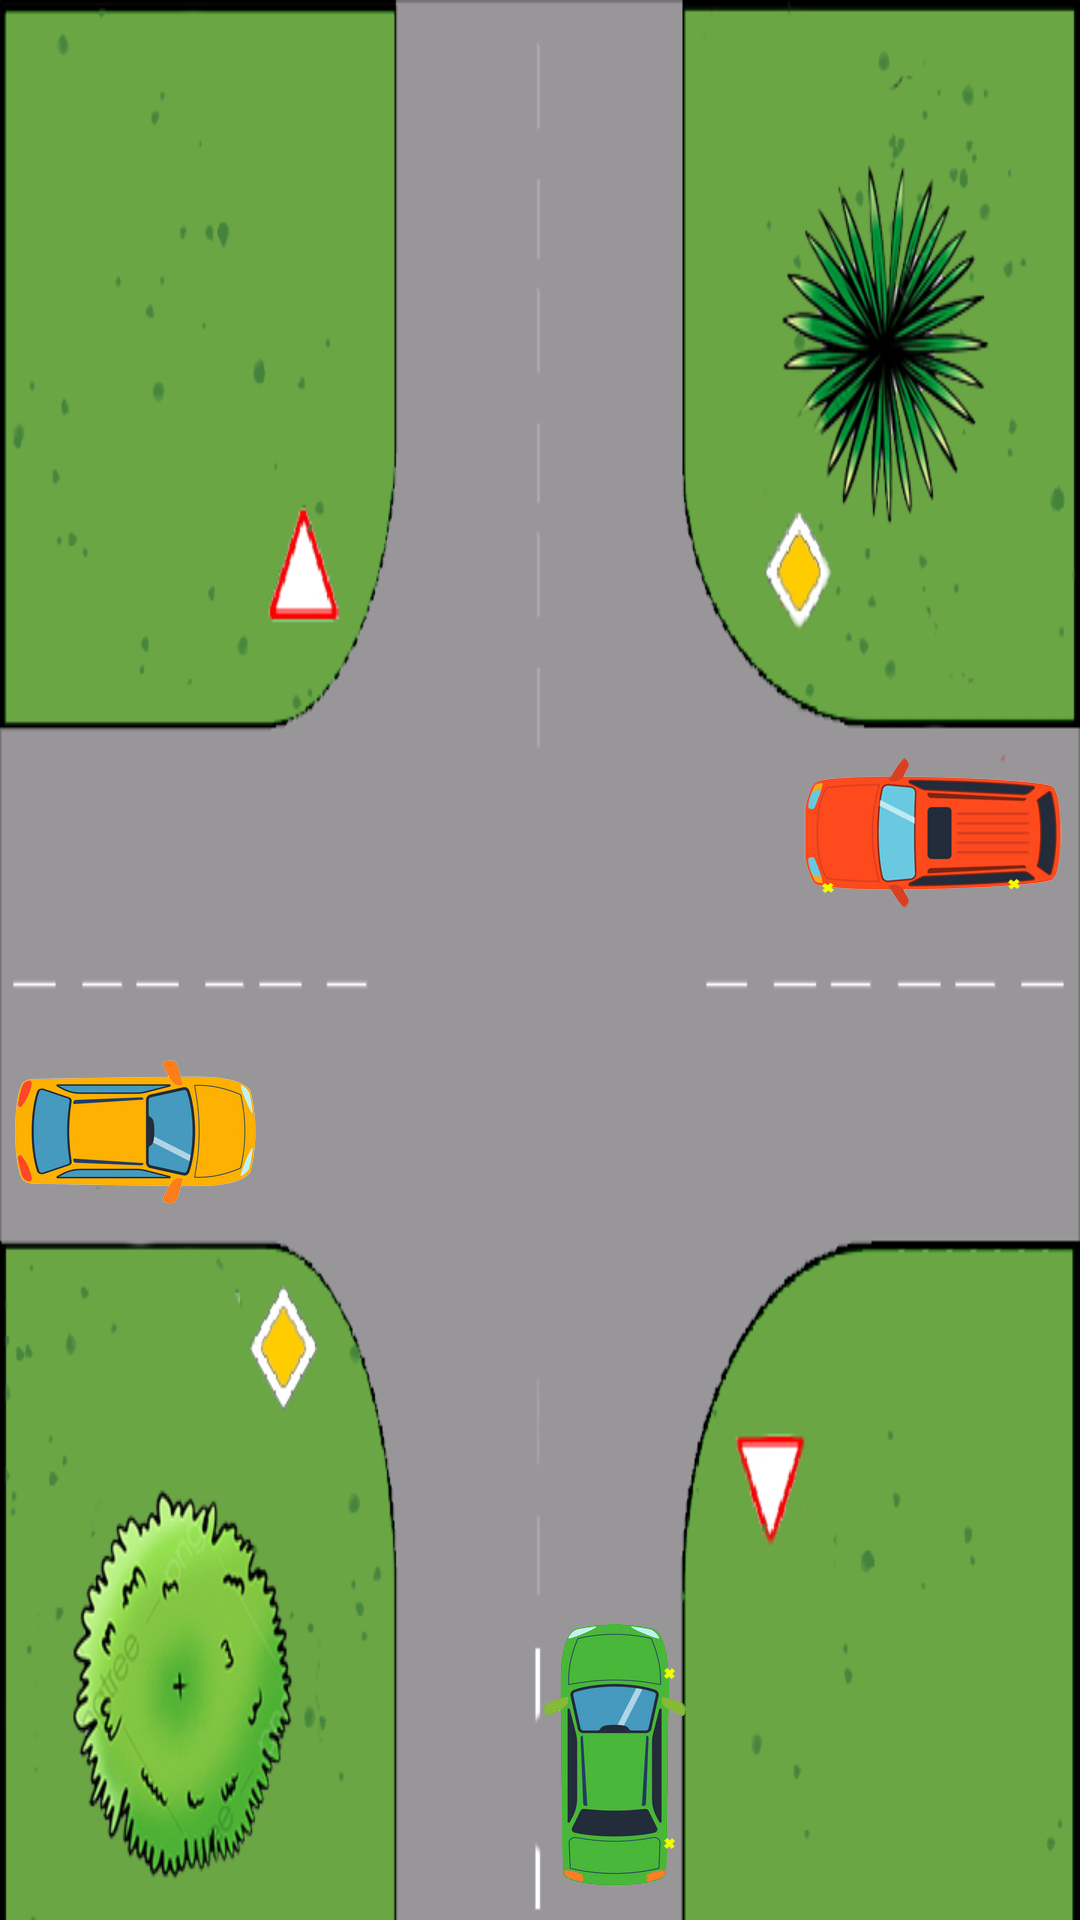

Icons on this 1080px x 1920px Android screen, each with its box as (x1,y1,x2,y2):
cary left to forward: (15,1060,256,1203)
